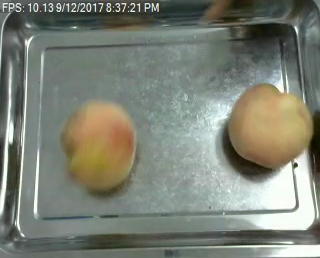Peach: (228, 83, 313, 170), (62, 99, 136, 192)
